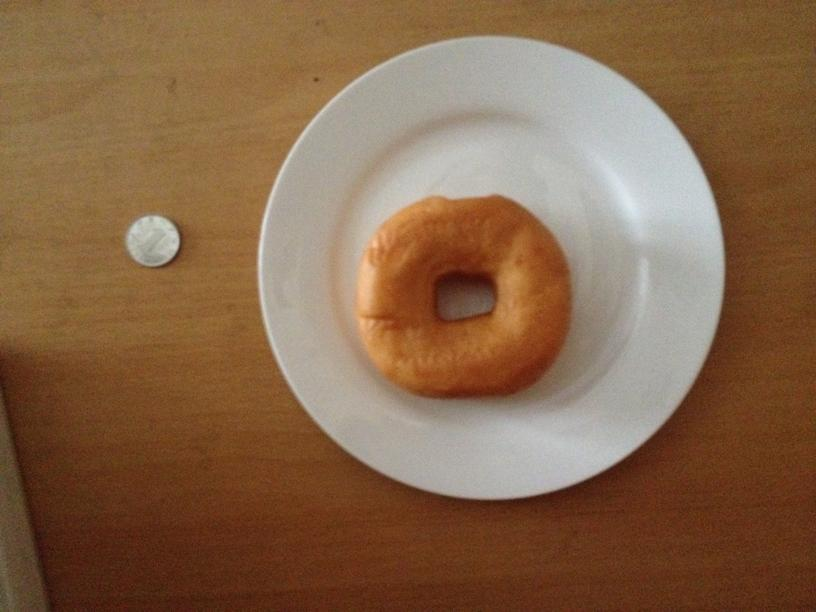coin: (124, 212, 180, 269)
doughnut: (354, 192, 572, 398)
